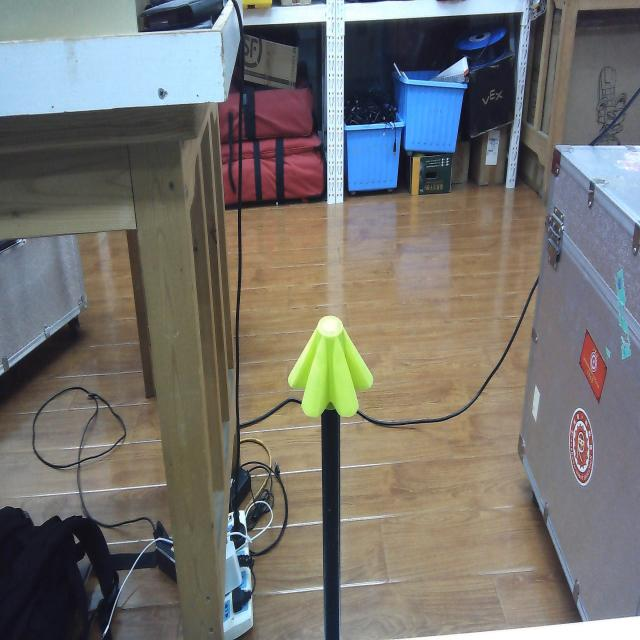Yellow-Stake-Head: (287, 315, 373, 418)
